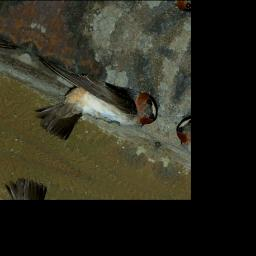Swallow: (11, 45, 165, 173)
